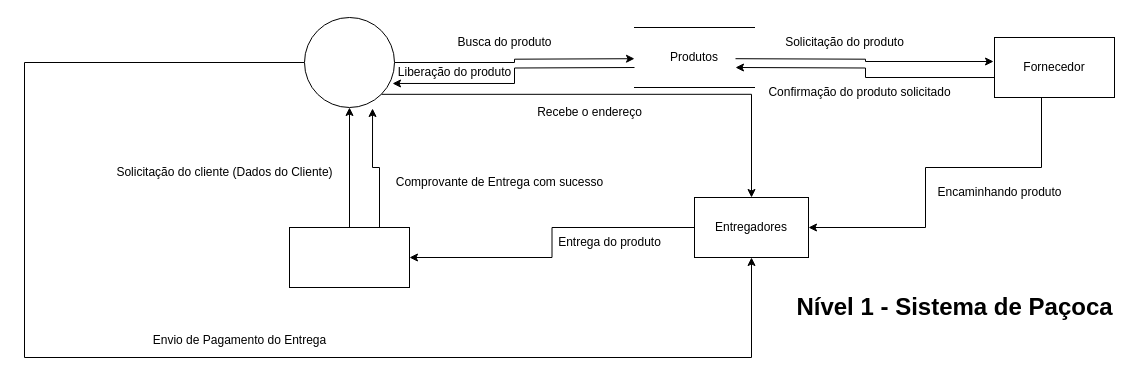
This 1132x383 diagram has some shape labels left out. Here are the shapes that lost their labels. From the top down, the centre of each, then its label:
At [349,62]: "Sistema Venda de Paçoca".
At [349,257]: "Clientes".
